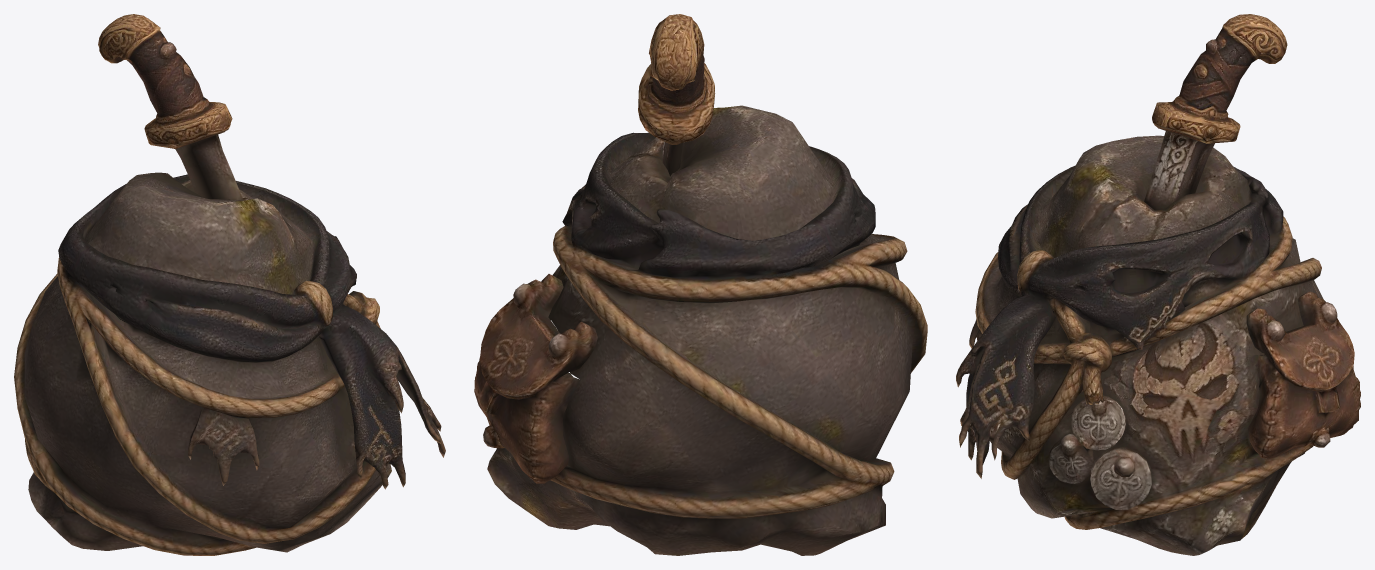
File: n_haydut.glb
3 renders of one model, left to right at view 1: azimuth 30°, elevation 25°; view 2: azimuth 150°, elevation 25°; view 3: azimuth 270°, elevation 25°, orthographic. The views are drawn at different scales.
Parts seen in each view (by area): view 1: tripo_node_ae4a7601-cf46-406f-9539-e02e0a3f88c2; view 2: tripo_node_ae4a7601-cf46-406f-9539-e02e0a3f88c2; view 3: tripo_node_ae4a7601-cf46-406f-9539-e02e0a3f88c2.
Part boxes in pixels (x1,y1,x2,y2): tripo_node_ae4a7601-cf46-406f-9539-e02e0a3f88c2: (14, 14, 445, 555); tripo_node_ae4a7601-cf46-406f-9539-e02e0a3f88c2: (474, 14, 927, 555); tripo_node_ae4a7601-cf46-406f-9539-e02e0a3f88c2: (956, 14, 1360, 555).
Bounding box in the file's own units: 0.6894 × 0.998 × 0.7755.
1 material, 1 textured.
